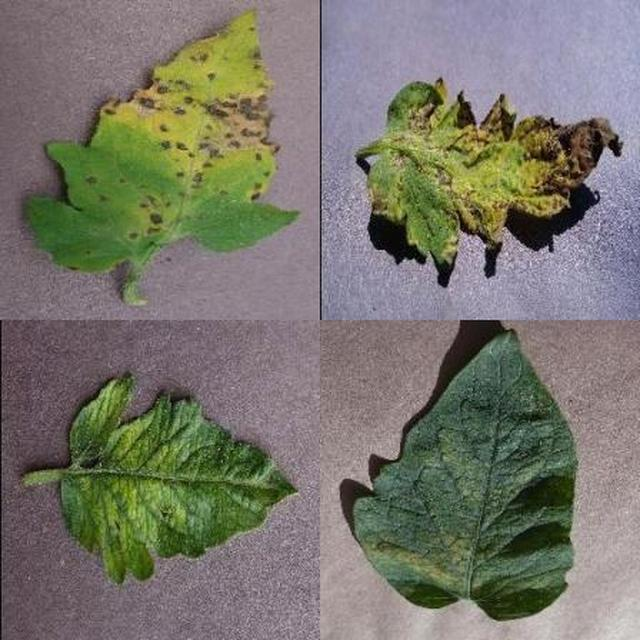Septoria Leaf: (235, 201, 640, 640)
